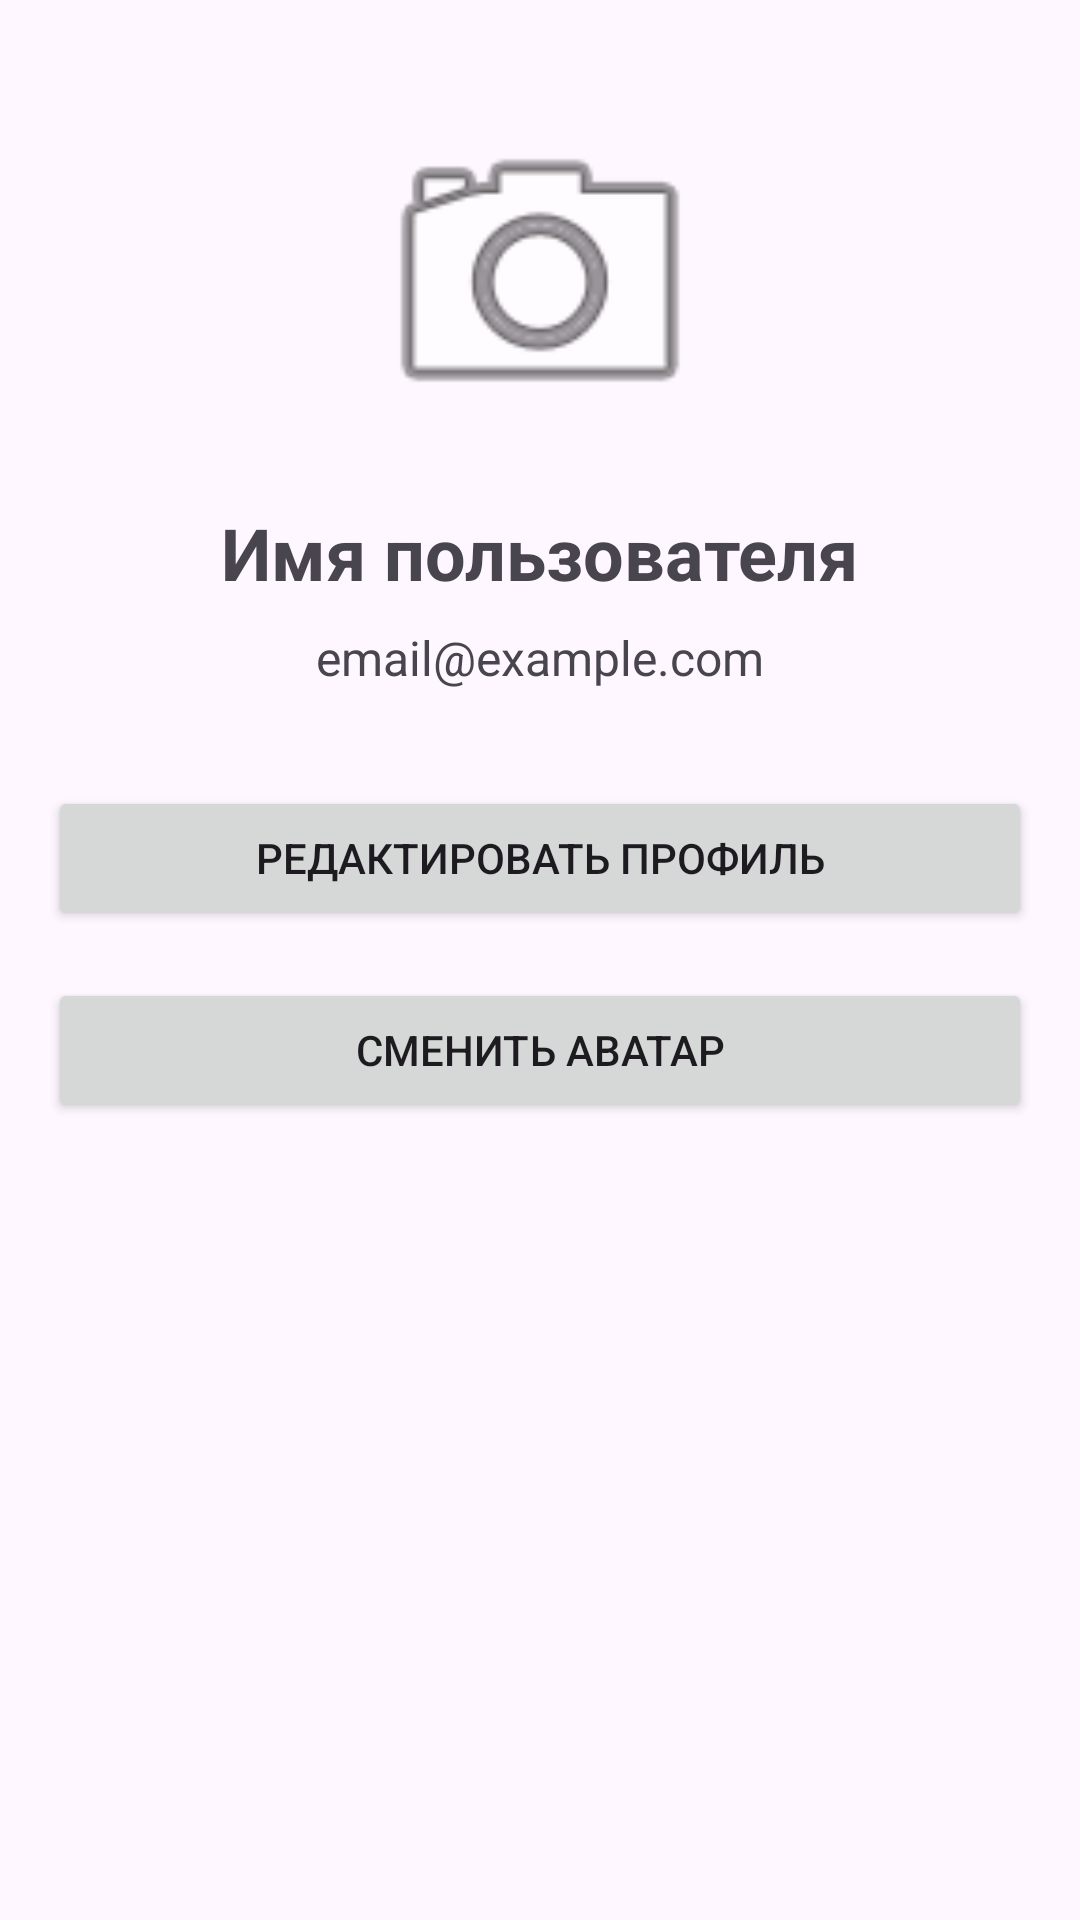

Icons on this 1080x1920 Android screen, each with its box as (x1, y1, x2, y2):
camera: (401, 159, 679, 381)
